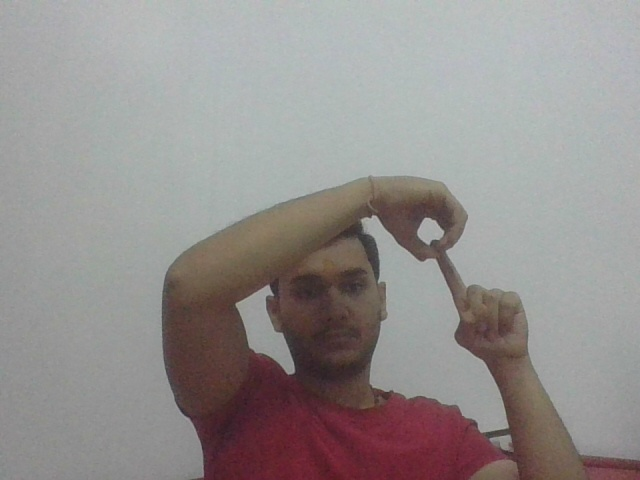Q: (390, 170, 526, 348)
